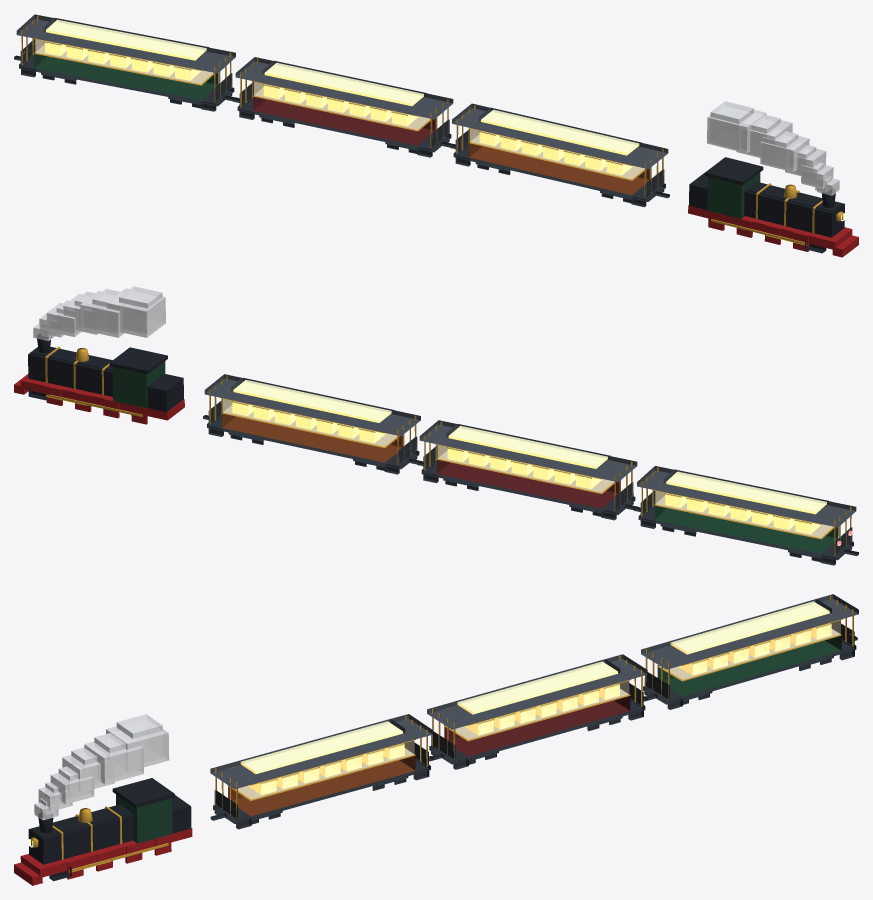
File: train_dalat_steam_3coaches.glb
3 renders of one model, top to bottom at view 1: azimuth 30°, elevation 25°; view 2: azimuth 210°, elevation 25°; view 3: azimuth 270°, elevation 25°, orthographic. The views are drawn at different scales.
Visible parts, largest first — view 1: Indochina_Coaches_WarmGlow_Panorama_Glass, Indochina_Coaches_Clerestory_Roofs, Indochina_Coaches_Steel_Bogies_And_Wheels, SteamLoco_Steam_Plume_Clouds, SteamLoco_HG44_Boiler_And_Smokebox, Indochina_Coaches_Brass_Trim_And_Posts, Coach_03_Plateau_Belvedere_Tail, Coach_02_Indochine_VIP_Dining, Coach_01_Langbiang_Teak_Salon, SteamLoco_HG44_Crimson_Chassis_And_Wheels, Indochina_Coaches_Cream_WindowBands, SteamLoco_HG44_Engineer_Cab (+1 smaller); view 2: Indochina_Coaches_WarmGlow_Panorama_Glass, Indochina_Coaches_Clerestory_Roofs, Indochina_Coaches_Steel_Bogies_And_Wheels, SteamLoco_HG44_Boiler_And_Smokebox, SteamLoco_Steam_Plume_Clouds, Indochina_Coaches_Brass_Trim_And_Posts, Coach_03_Plateau_Belvedere_Tail, Coach_02_Indochine_VIP_Dining, Coach_01_Langbiang_Teak_Salon, SteamLoco_HG44_Crimson_Chassis_And_Wheels, Indochina_Coaches_Cream_WindowBands, SteamLoco_HG44_Engineer_Cab (+1 smaller); view 3: Indochina_Coaches_WarmGlow_Panorama_Glass, Indochina_Coaches_Clerestory_Roofs, SteamLoco_Steam_Plume_Clouds, Indochina_Coaches_Steel_Bogies_And_Wheels, SteamLoco_HG44_Boiler_And_Smokebox, Indochina_Coaches_Brass_Trim_And_Posts, Coach_01_Langbiang_Teak_Salon, Coach_02_Indochine_VIP_Dining, Coach_03_Plateau_Belvedere_Tail, SteamLoco_HG44_Crimson_Chassis_And_Wheels, Indochina_Coaches_Cream_WindowBands, SteamLoco_HG44_Engineer_Cab (+1 smaller).
Boxes of the visible parts, <box> form: Indochina_Coaches_WarmGlow_Panorama_Glass: <box>45,19,639,175</box>; Indochina_Coaches_Clerestory_Roofs: <box>16,14,668,169</box>; Indochina_Coaches_Steel_Bogies_And_Wheels: <box>14,39,669,207</box>; SteamLoco_Steam_Plume_Clouds: <box>707,101,839,195</box>; SteamLoco_HG44_Boiler_And_Smokebox: <box>689,157,844,253</box>; Indochina_Coaches_Brass_Trim_And_Posts: <box>21,15,663,197</box>; Coach_03_Plateau_Belvedere_Tail: <box>34,52,218,99</box>; Coach_02_Indochine_VIP_Dining: <box>253,94,435,145</box>; Coach_01_Langbiang_Teak_Salon: <box>469,141,649,195</box>; SteamLoco_HG44_Crimson_Chassis_And_Wheels: <box>688,205,858,257</box>; Indochina_Coaches_Cream_WindowBands: <box>35,39,644,179</box>; SteamLoco_HG44_Engineer_Cab: <box>707,172,760,218</box>; Indochina_Coaches_WarmGlow_Panorama_Glass: <box>232,380,826,534</box>; Indochina_Coaches_Clerestory_Roofs: <box>204,374,856,527</box>; Indochina_Coaches_Steel_Bogies_And_Wheels: <box>203,401,858,565</box>; SteamLoco_HG44_Boiler_And_Smokebox: <box>28,333,183,412</box>; SteamLoco_Steam_Plume_Clouds: <box>33,286,165,340</box>; Indochina_Coaches_Brass_Trim_And_Posts: <box>209,375,851,555</box>; Coach_03_Plateau_Belvedere_Tail: <box>654,504,838,553</box>; Coach_02_Indochine_VIP_Dining: <box>437,458,619,508</box>; Coach_01_Langbiang_Teak_Salon: <box>222,412,402,462</box>; SteamLoco_HG44_Crimson_Chassis_And_Wheels: <box>14,374,184,424</box>; Indochina_Coaches_Cream_WindowBands: <box>222,399,833,537</box>; SteamLoco_HG44_Engineer_Cab: <box>112,361,165,408</box>; Indochina_Coaches_WarmGlow_Panorama_Glass: <box>240,601,831,795</box>; Indochina_Coaches_Clerestory_Roofs: <box>210,594,858,789</box>; SteamLoco_Steam_Plume_Clouds: <box>34,714,169,820</box>; Indochina_Coaches_Steel_Bogies_And_Wheels: <box>210,623,857,829</box>; SteamLoco_HG44_Boiler_And_Smokebox: <box>28,778,191,881</box>; Indochina_Coaches_Brass_Trim_And_Posts: <box>215,595,853,818</box>; Coach_01_Langbiang_Teak_Salon: <box>228,754,415,816</box>; Coach_02_Indochine_VIP_Dining: <box>444,694,630,756</box>; Coach_03_Plateau_Belvedere_Tail: <box>657,633,841,696</box>; SteamLoco_HG44_Crimson_Chassis_And_Wheels: <box>14,828,192,885</box>; Indochina_Coaches_Cream_WindowBands: <box>236,620,840,799</box>; SteamLoco_HG44_Engineer_Cab: <box>116,794,172,843</box>.
Bounding box in the file's own units: 33.12 × 8.07 × 49.5.
